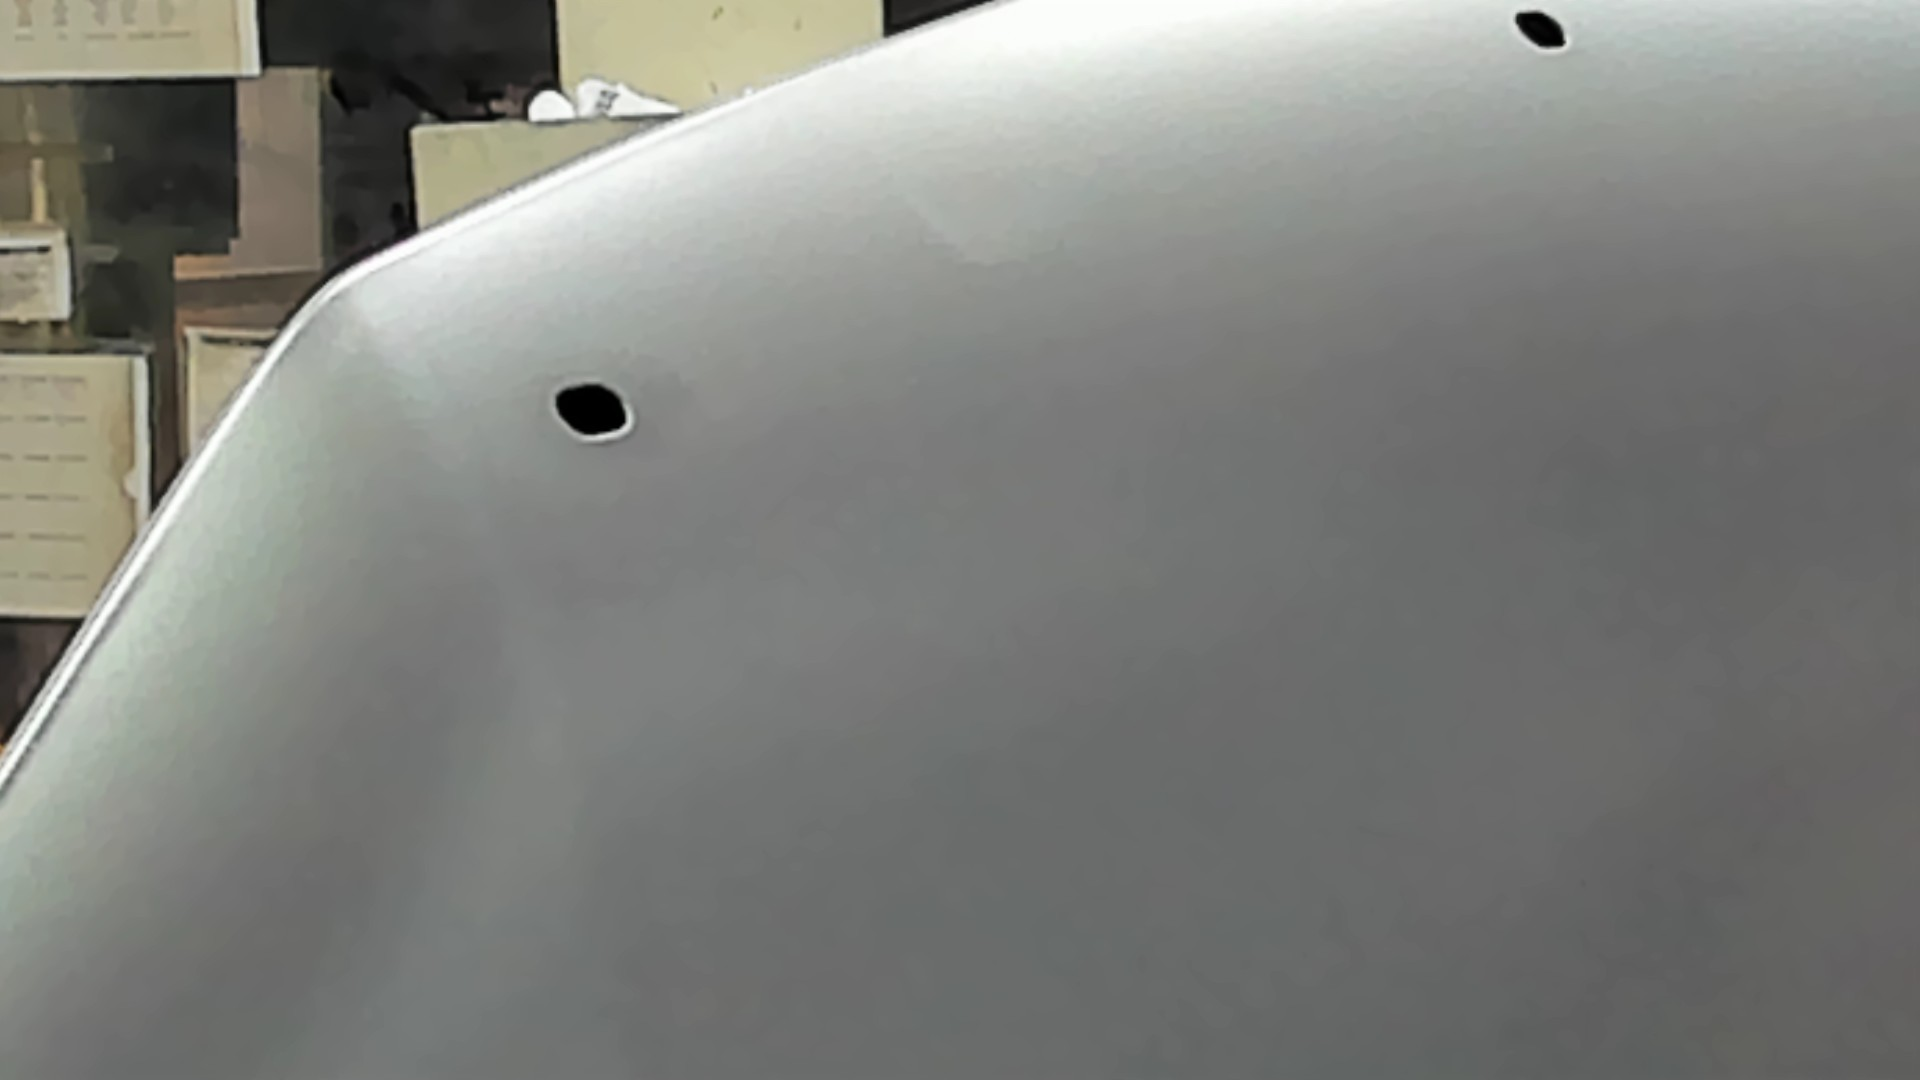amorfo: (550, 378, 640, 446), (1509, 5, 1575, 59)
capo: (793, 109, 1920, 1080)
